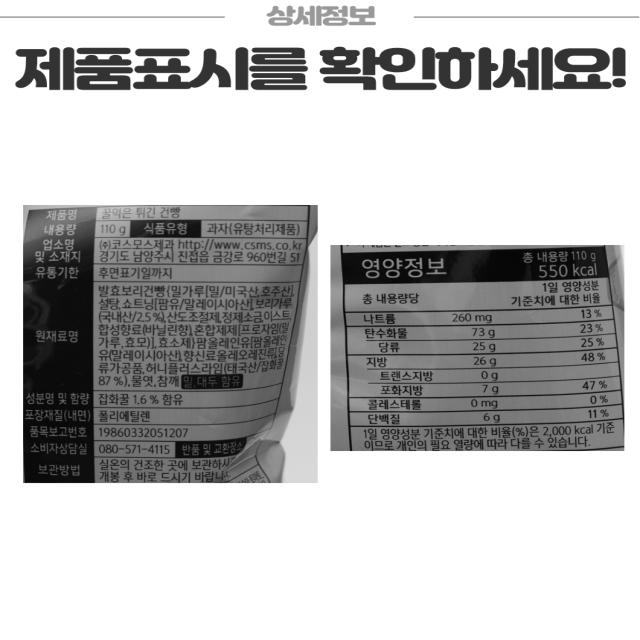Nutrition Label: (330, 241, 635, 456)
